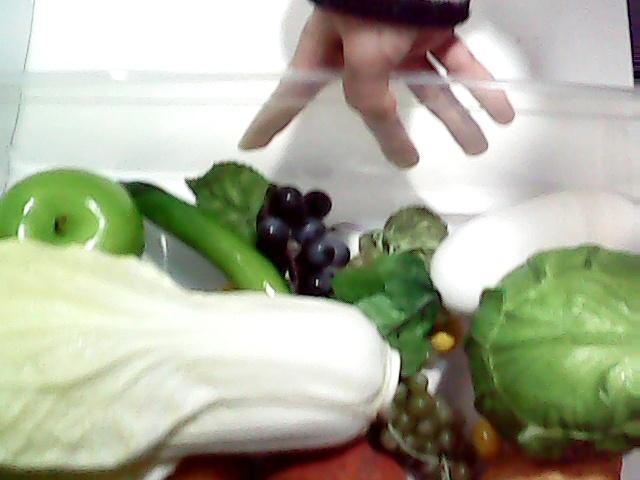apple: (0, 170, 144, 260)
cabbage: (459, 239, 640, 465)
grape: (248, 170, 366, 301), (395, 364, 477, 480)
napa cabbage: (0, 244, 388, 470)
peach: (269, 439, 407, 480)
pepper: (117, 176, 291, 296)
radish: (331, 188, 640, 375)
